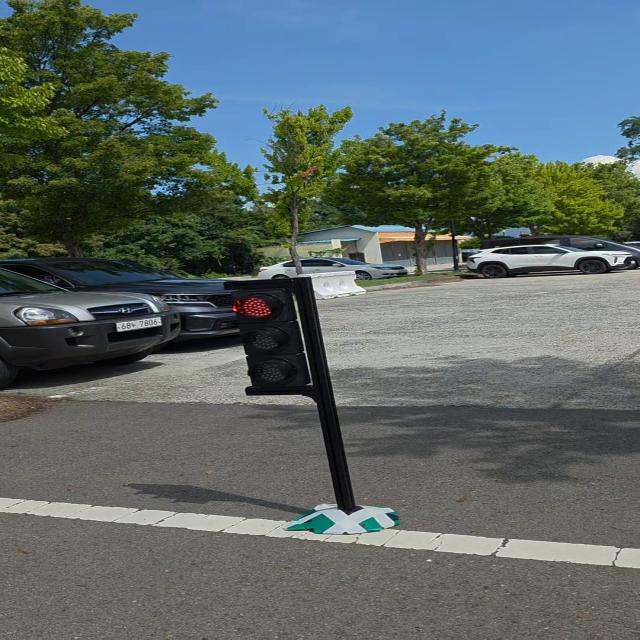red: (224, 285, 320, 393)
